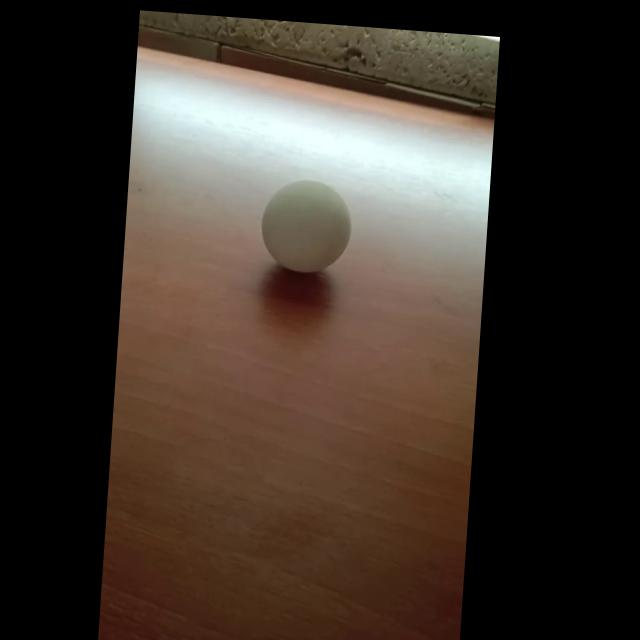white ball: (258, 175, 355, 276)
